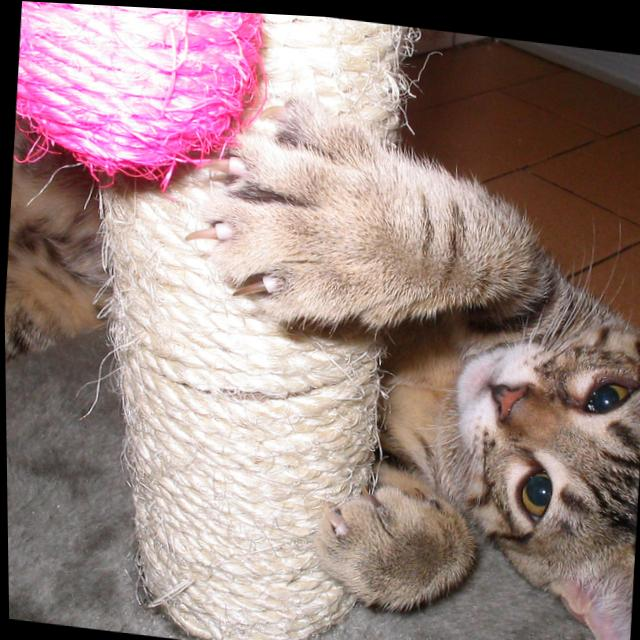animals: (477, 353, 640, 640)
